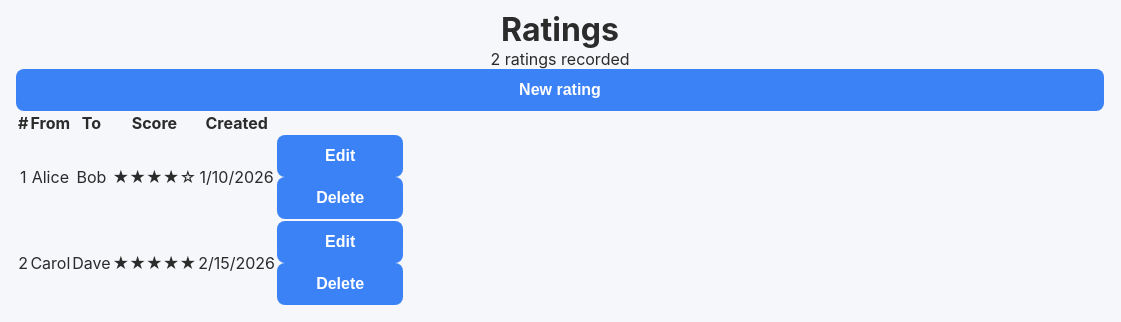
Test: RatingsManager › usuwanie oceny › usuwa ocenę po potwierdzeniu i usuwa ją z listy
Expected: the text "Alice" is shown, [30,135,70,219]
Step 1. Click the button "Delete" in the row of "Alice" → (340, 198), box [277,177,403,219]
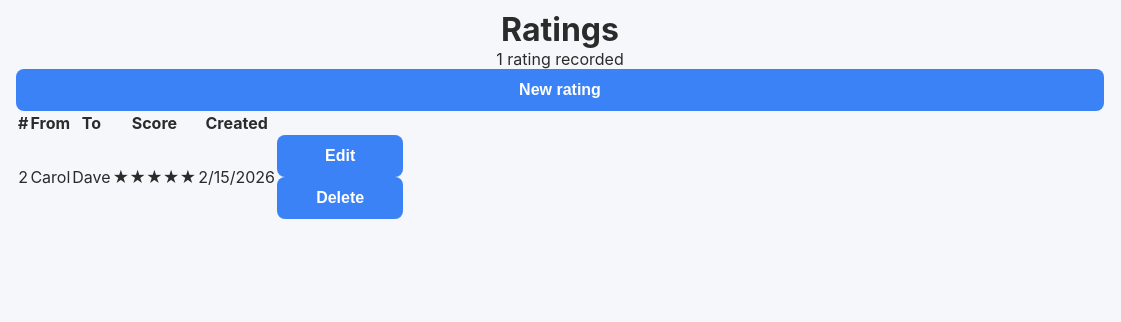
Expected: the text "Carol" is shown, [30,135,70,219]
Result: the text "Alice" is gone
